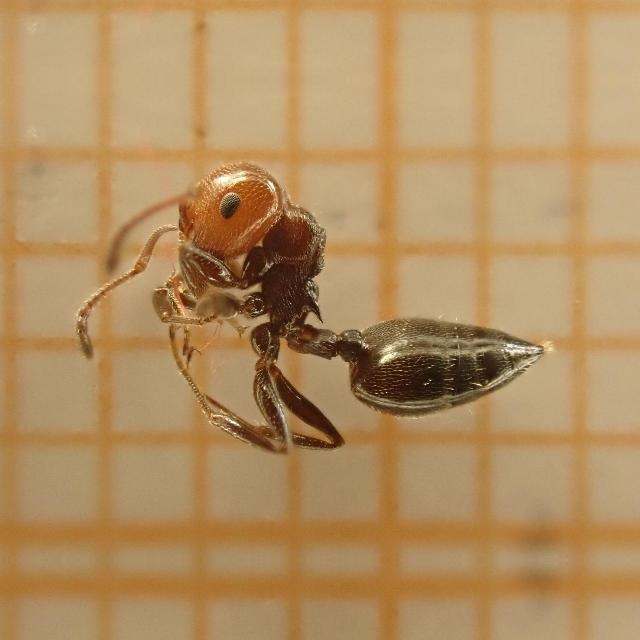Crematogaster: (134, 160, 576, 468)
